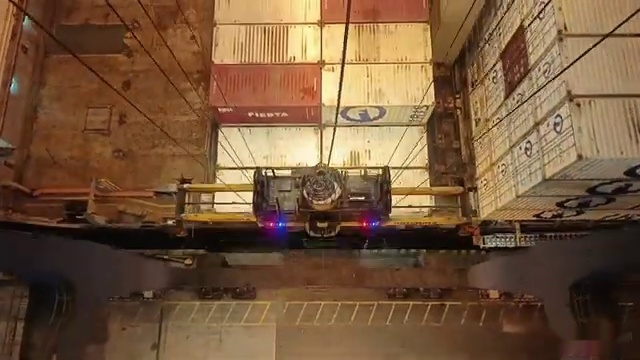container: (209, 63, 435, 124), (212, 169, 434, 215), (213, 123, 427, 167), (212, 22, 434, 64), (211, 0, 434, 22), (213, 0, 436, 21), (213, 0, 437, 17)
guide_mark: (76, 341, 550, 360), (113, 303, 541, 323)
spreader: (169, 167, 481, 244)
target_slot: (207, 63, 434, 124)
